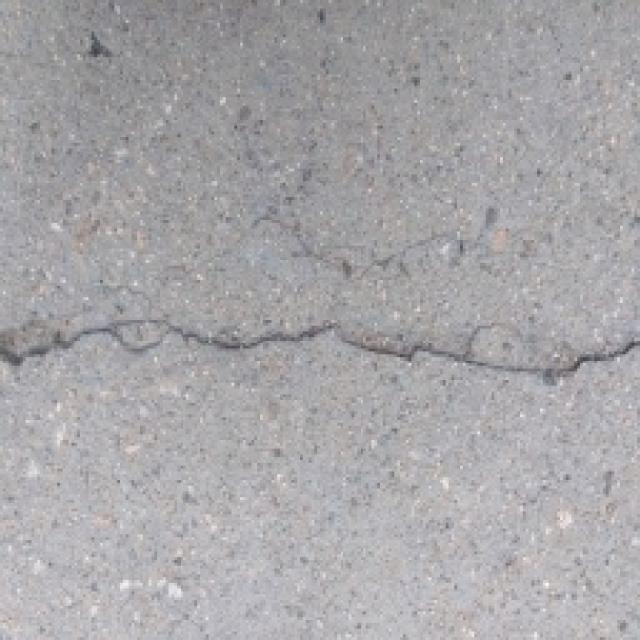SurfaceCrack: (2, 272, 640, 436)
